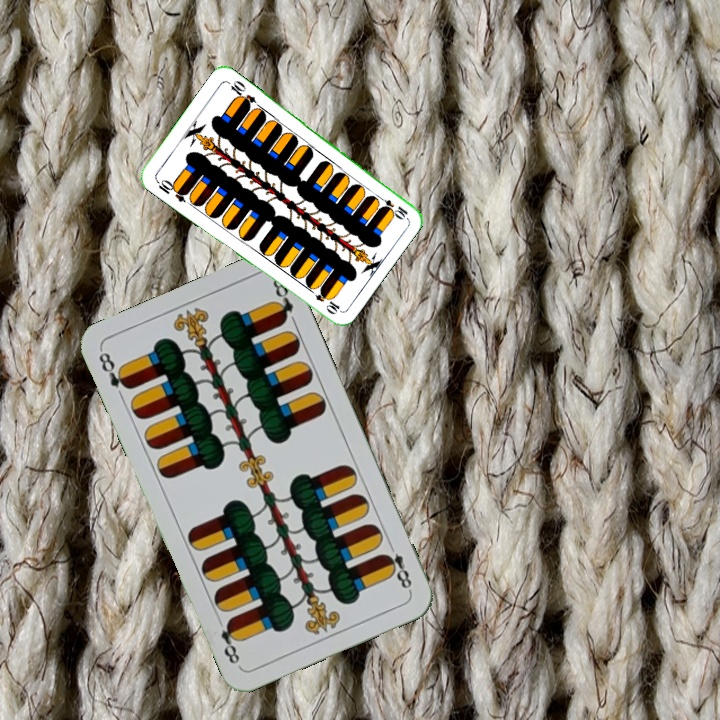E10: (152, 175, 190, 205), (373, 192, 410, 221)
E8: (379, 538, 415, 594), (94, 347, 134, 392)
